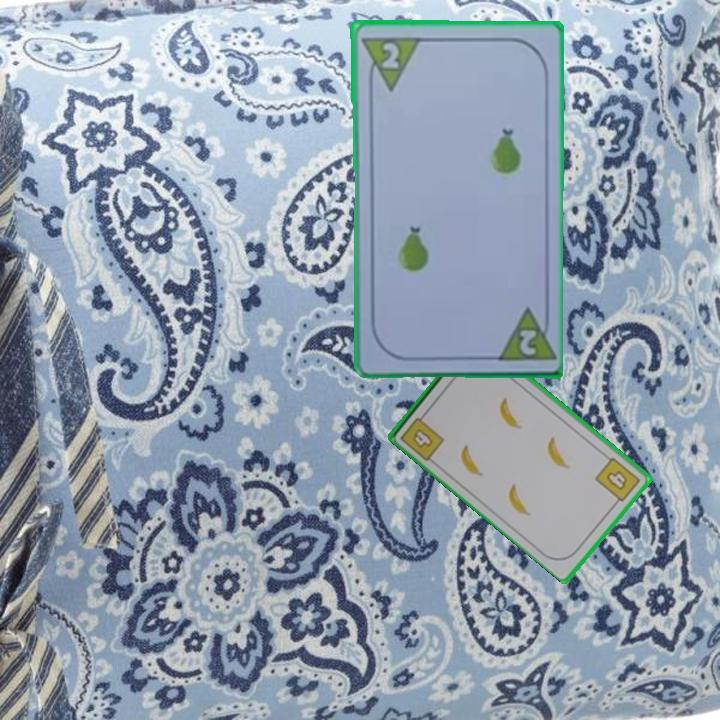2p: (357, 33, 422, 93), (516, 326, 541, 359)
4b: (591, 453, 643, 509), (397, 408, 447, 463)
